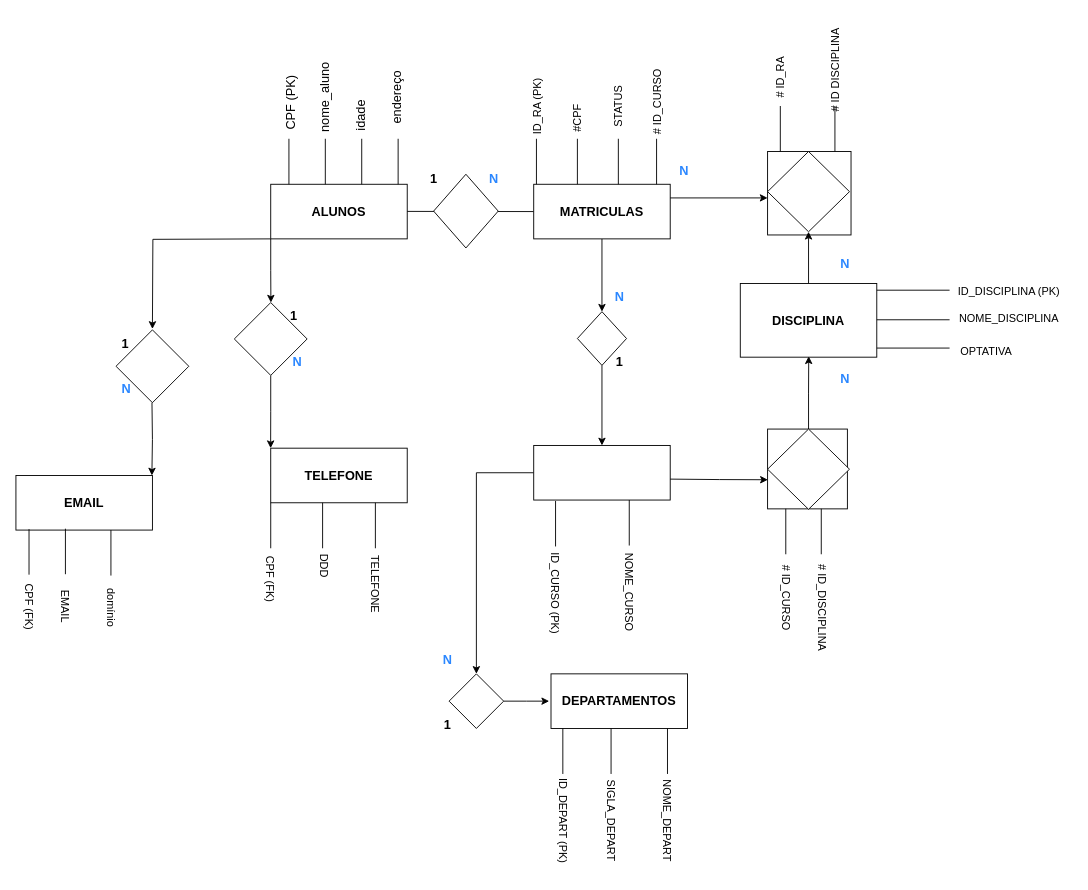
This 1088x890 diagram has some shape labels left out. The shapes that lost their labels are listed below. From the top down, each one's box as (x1, y1, x2, y2) in pixels, then its label:
(767, 151, 849, 232): MATRIC/ DISCIPLINA
(533, 445, 670, 500): CURSOS
(767, 428, 849, 509): CURSO/ DISCIPLINA
